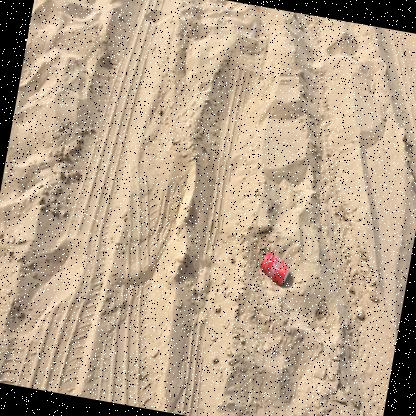Drink can: (259, 251, 289, 285)
Plastic film: (248, 21, 257, 38)
